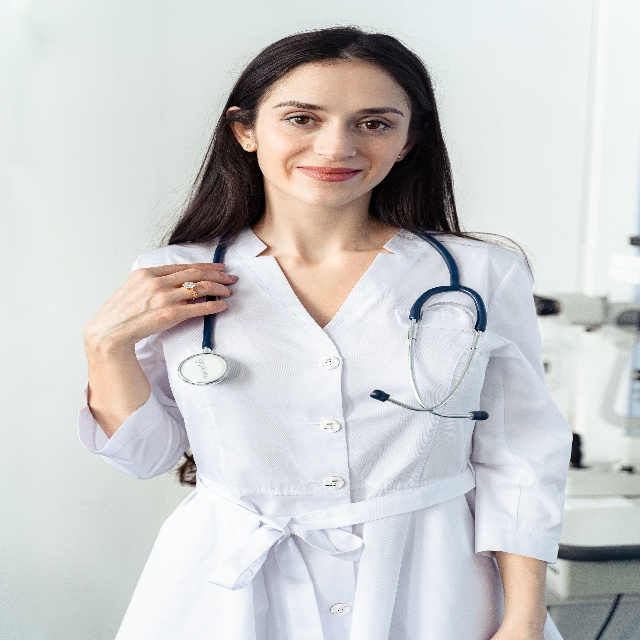Sin_guantes: (81, 261, 240, 348)
